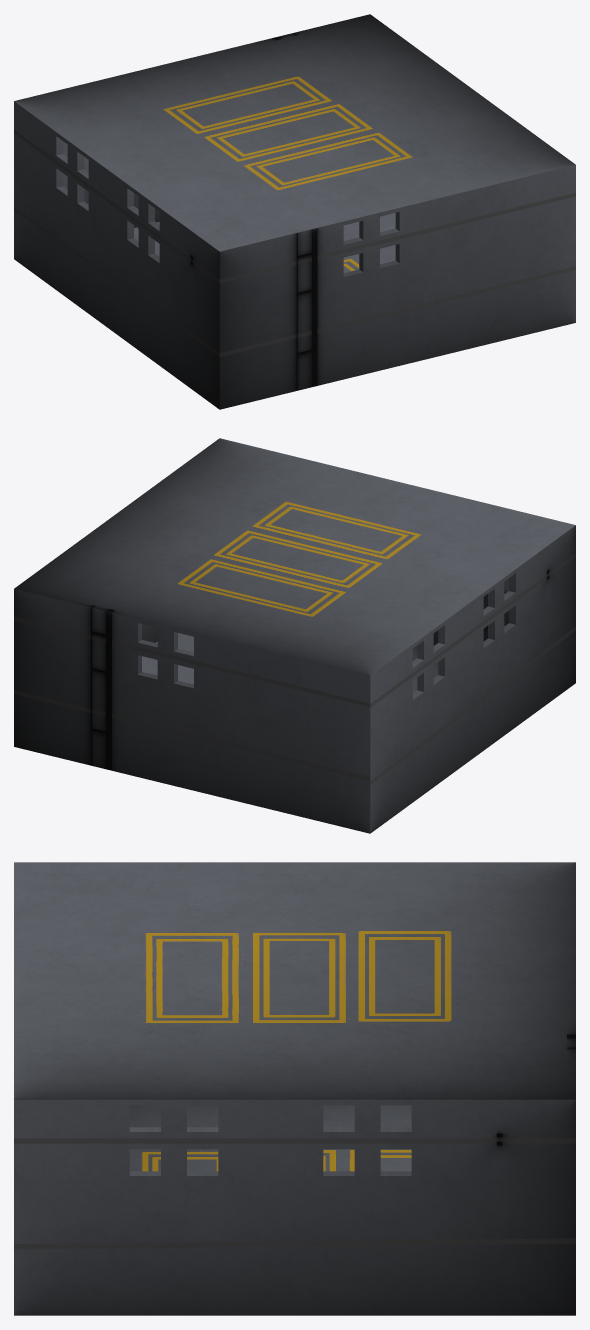
The model's file is Map.fbx.
3 views of the same model, one above another, from view 1: azimuth 30°, elevation 25°; view 2: azimuth 150°, elevation 25°; view 3: azimuth 270°, elevation 25° (orthographic). The views are drawn at different scales.
Visible parts, largest first — view 1: Map; view 2: Map; view 3: Map.
Boxes of the visible parts, x1=… form: Map: x1=14, y1=14, x2=575, y2=409; Map: x1=14, y1=438, x2=575, y2=833; Map: x1=14, y1=862, x2=575, y2=1315.
Bounding box in the file's own units: 572 × 243 × 572.
